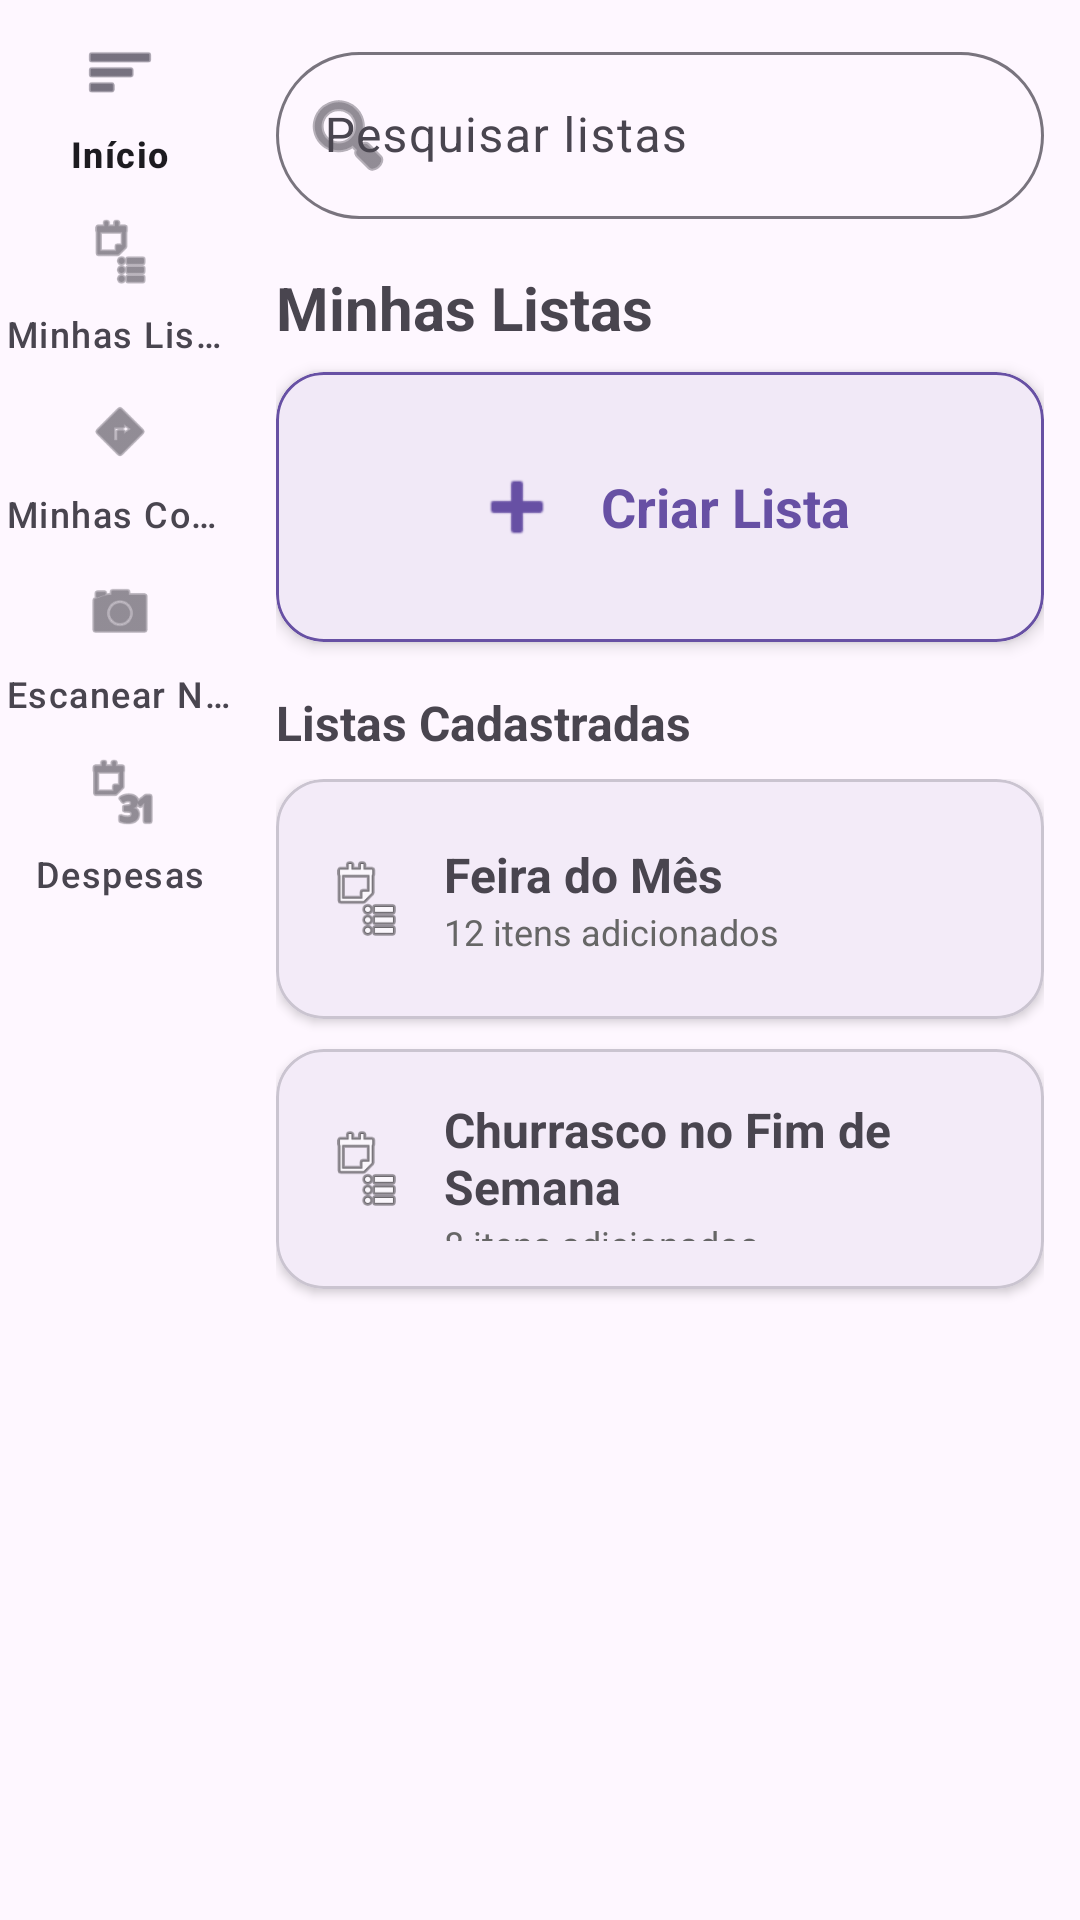

Icon click points for this 1080 × 1920 phone screenshot, format point (x, y):
add: point (517, 507)
